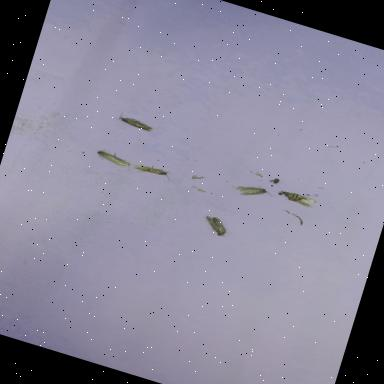pbw: (91, 146, 131, 172), (201, 214, 236, 238), (278, 188, 316, 210), (234, 180, 270, 202), (118, 113, 155, 134), (135, 161, 169, 180)
